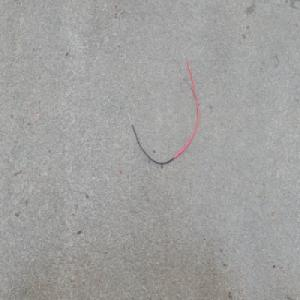Wire: (126, 52, 199, 168)
